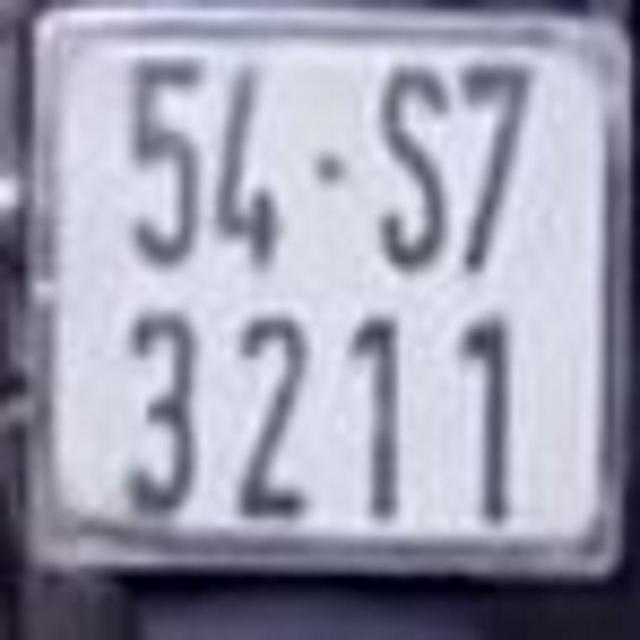1: (446, 304, 520, 525), (340, 312, 414, 520)
2: (231, 305, 308, 521)
3: (126, 304, 202, 520)
4: (208, 55, 291, 268)
5: (126, 51, 206, 264)
7: (461, 49, 532, 273)
S: (371, 57, 453, 273)
